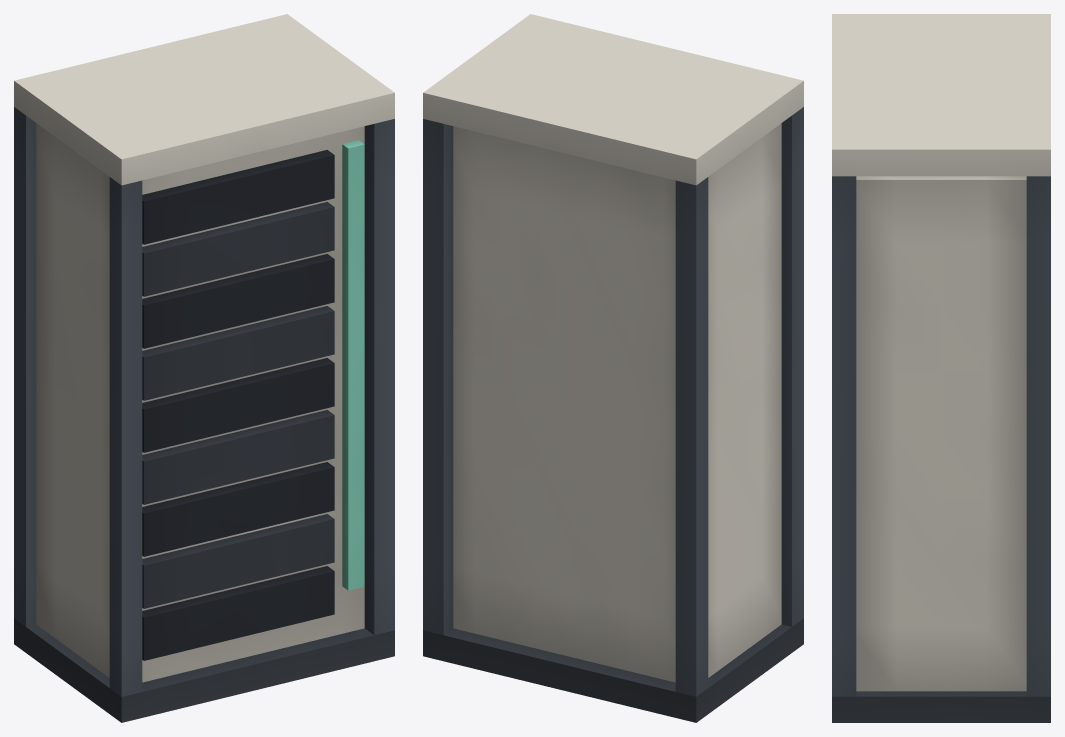
File: CK1_ExpeditionRack.glb
3 renders of one model, left to right at view 1: azimuth 30°, elevation 25°; view 2: azimuth 150°, elevation 25°; view 3: azimuth 270°, elevation 25°, orthographic.
Parts seen in each view (by area): view 1: CK1_ExpeditionRack; view 2: CK1_ExpeditionRack; view 3: CK1_ExpeditionRack.
Part boxes in pixels (left/top/right/bottom): CK1_ExpeditionRack: left=14, top=14, right=394, bottom=722; CK1_ExpeditionRack: left=423, top=14, right=803, bottom=722; CK1_ExpeditionRack: left=832, top=14, right=1050, bottom=722.
Size of the model in its own units: 1.32 by 2.6 by 0.9.
